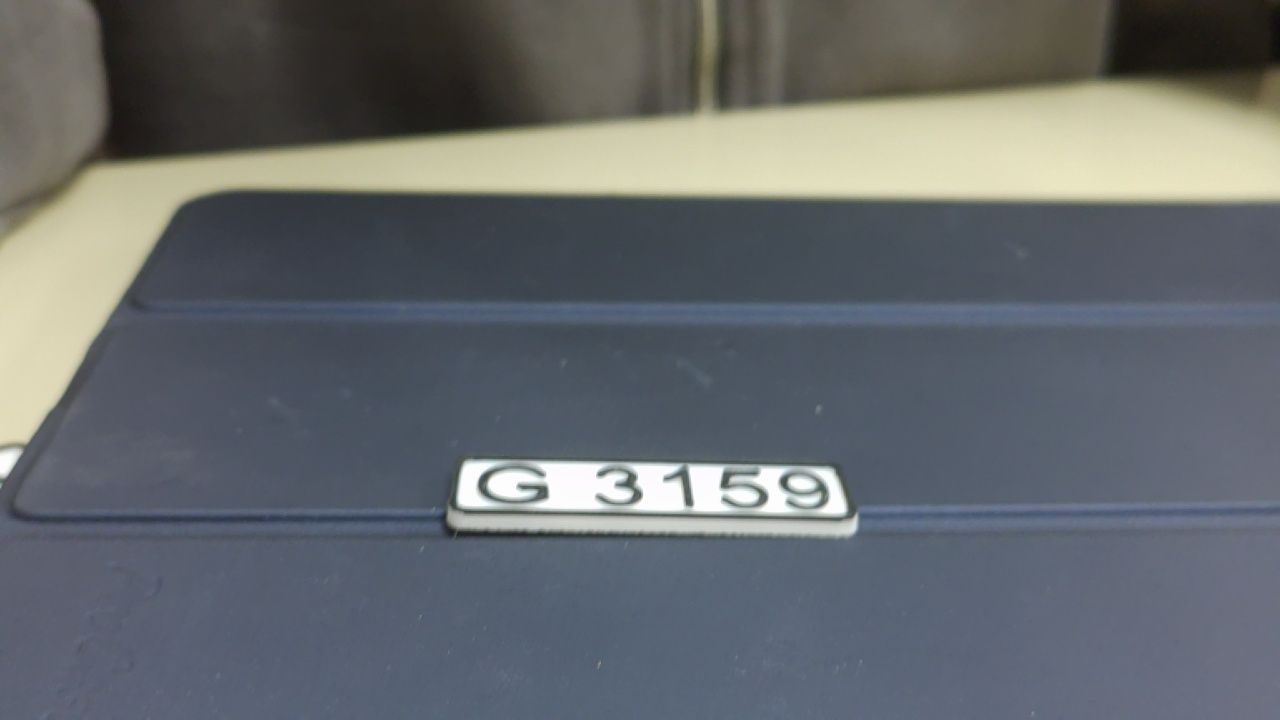license_plate: (437, 452, 871, 544)
